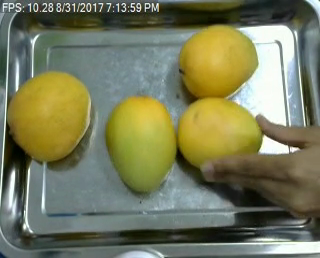Mango: (103, 95, 180, 195), (8, 71, 92, 162), (176, 95, 264, 172), (173, 23, 259, 98)
